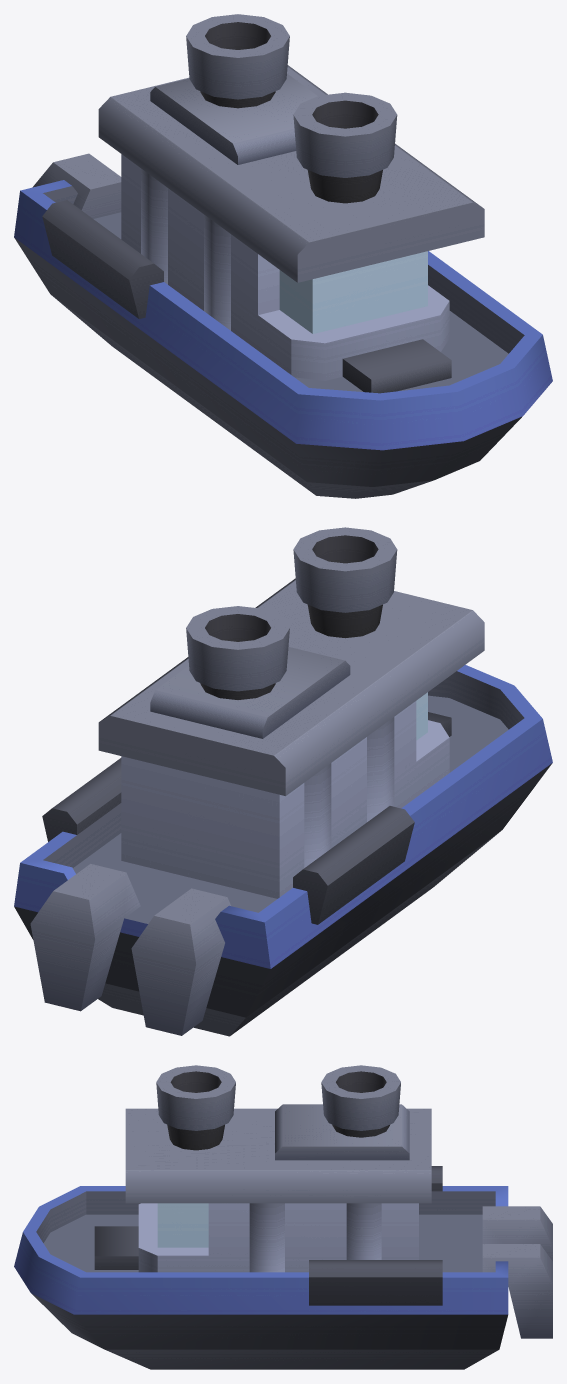
The model's file is boat-tow-a.glb.
3 renders of one model, top to bottom at view 1: azimuth 30°, elevation 25°; view 2: azimuth 150°, elevation 25°; view 3: azimuth 270°, elevation 25°, orthographic. The views are drawn at different scales.
Visible parts, largest first — view 1: boat-tow-a; view 2: boat-tow-a; view 3: boat-tow-a.
Boxes of the visible parts, x1=… form: boat-tow-a: x1=14, y1=14, x2=552, y2=498; boat-tow-a: x1=14, y1=527, x2=552, y2=1036; boat-tow-a: x1=14, y1=1065, x2=552, y2=1369.
Bounding box in the file's own units: 2.88 × 3.33 × 6.12.
Materials: 1 (1 with a texture image).
